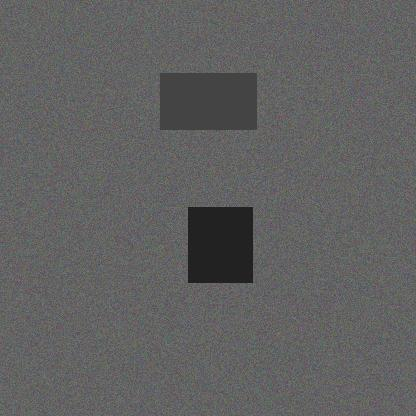empty: (284, 283, 348, 350), (273, 183, 335, 251), (194, 281, 258, 337)
occupied: (181, 186, 244, 230)
